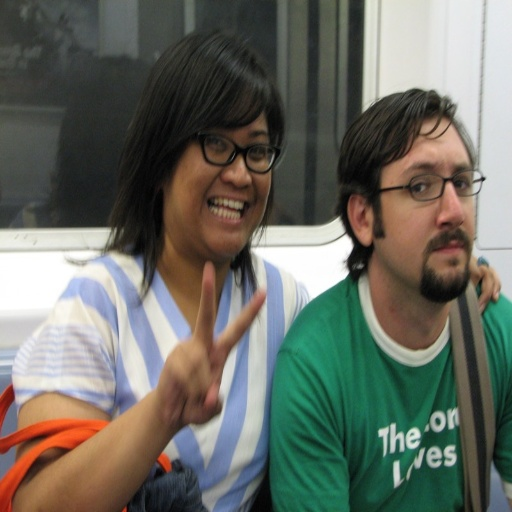hand: (128, 286, 255, 461), (469, 251, 503, 318)
